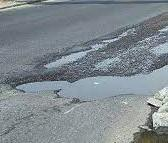crack: (36, 12, 162, 71)
pothole: (20, 76, 168, 112)
